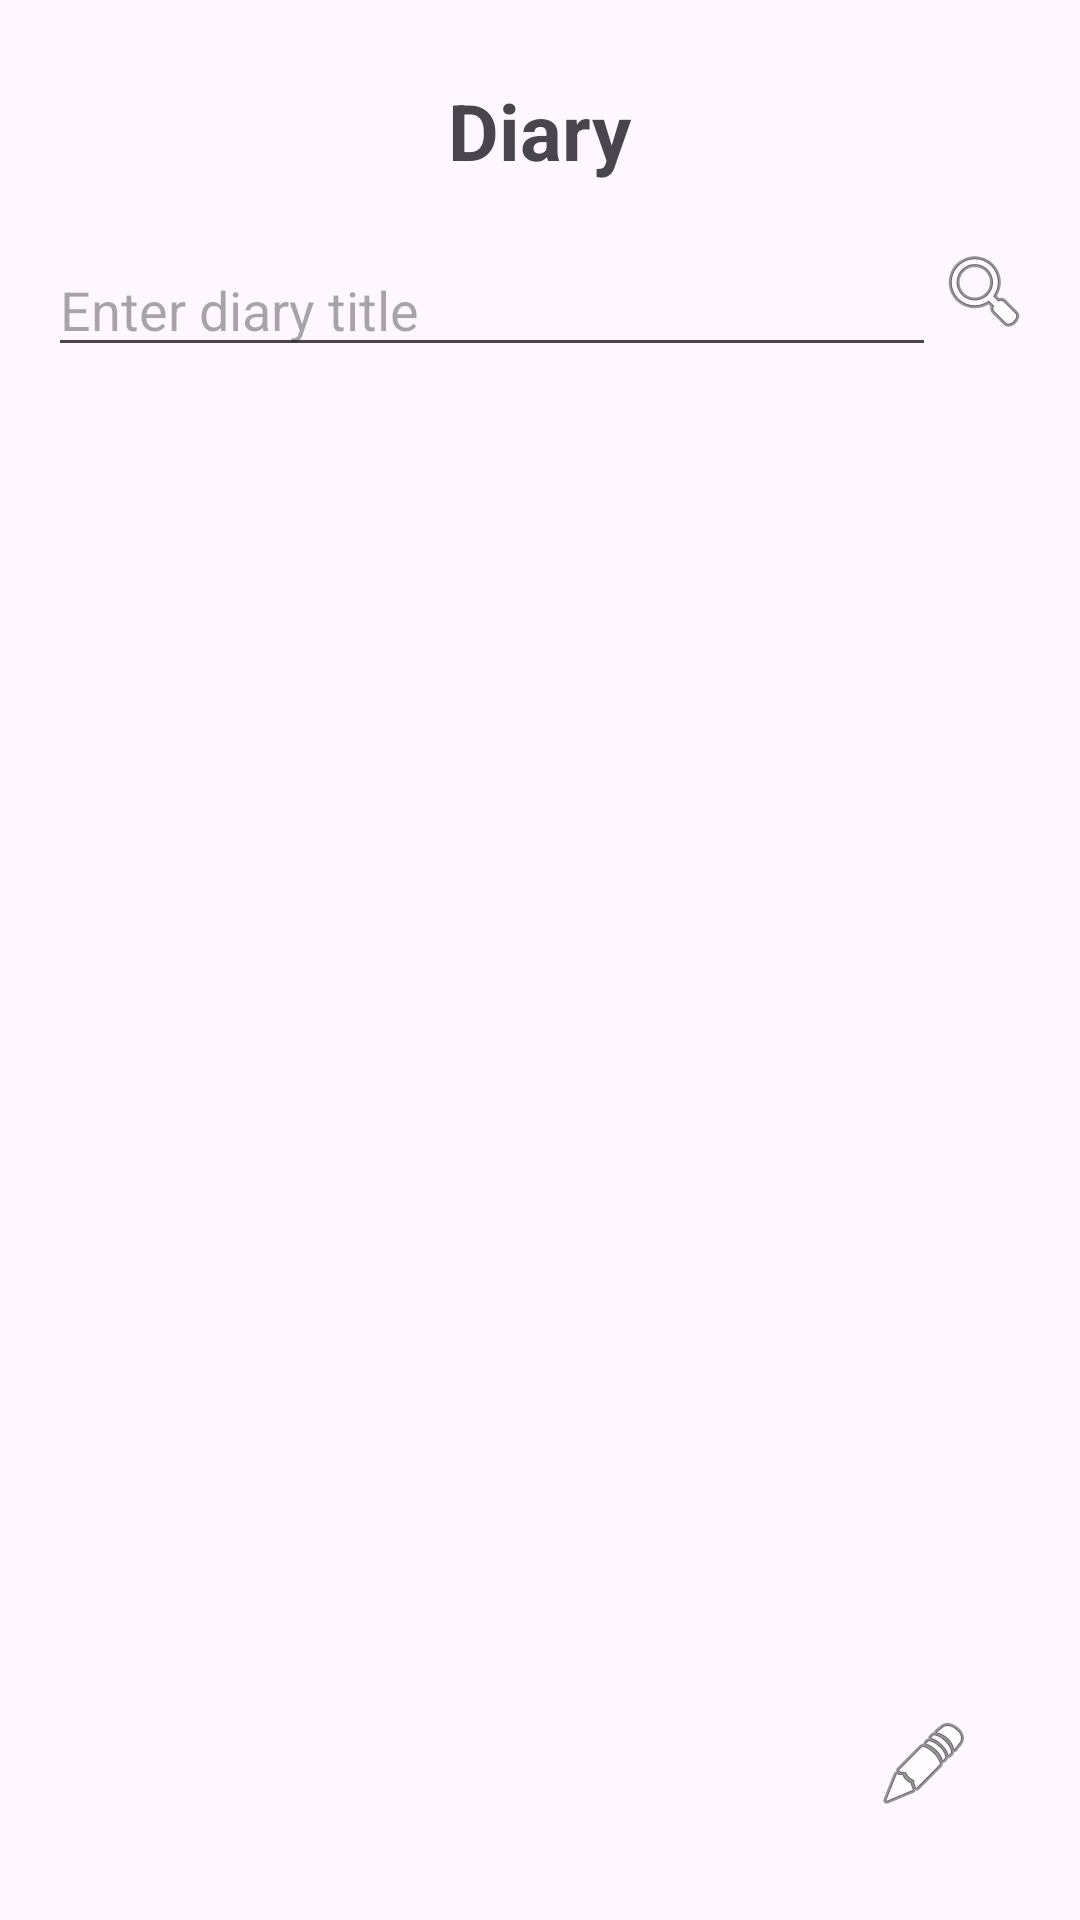

Locate icon controls on the screen. Image size 1080×1920, boxes as (x1, y1, x2, y2).
edit: (883, 1723, 964, 1804)
search: (948, 256, 1020, 327)
